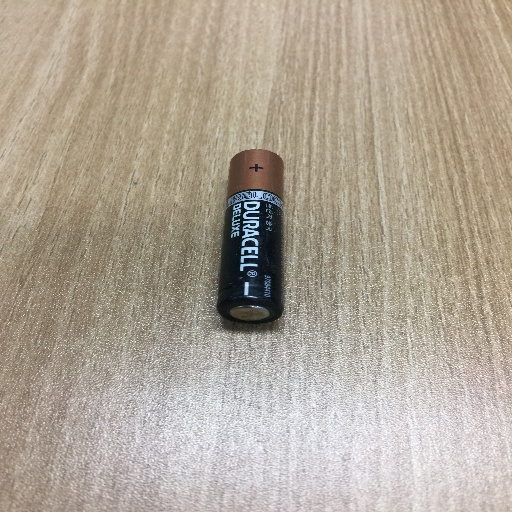Battery_0: (212, 142, 297, 346)
